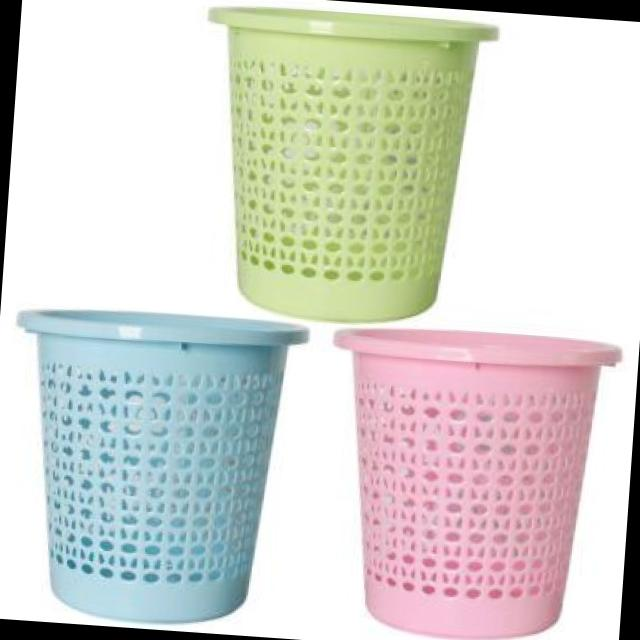dustbin: (0, 294, 320, 636), (184, 0, 507, 334), (309, 320, 631, 640)
